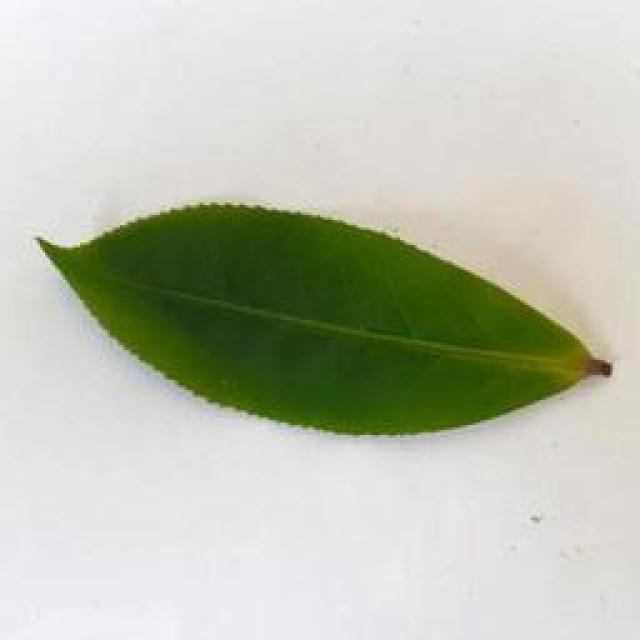Healthy: (30, 197, 625, 438)
